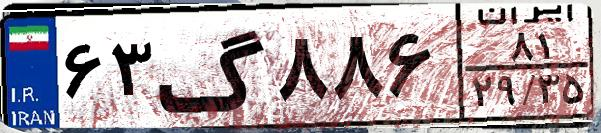1: (537, 27, 568, 80)
2: (470, 70, 495, 125)
3: (110, 28, 156, 98), (535, 70, 560, 125)
5: (560, 70, 590, 125)
6: (385, 28, 445, 110), (57, 26, 110, 100)
8: (270, 28, 330, 110), (330, 28, 385, 110), (508, 27, 537, 80)
9: (495, 70, 520, 125)
گ: (156, 12, 270, 120)
